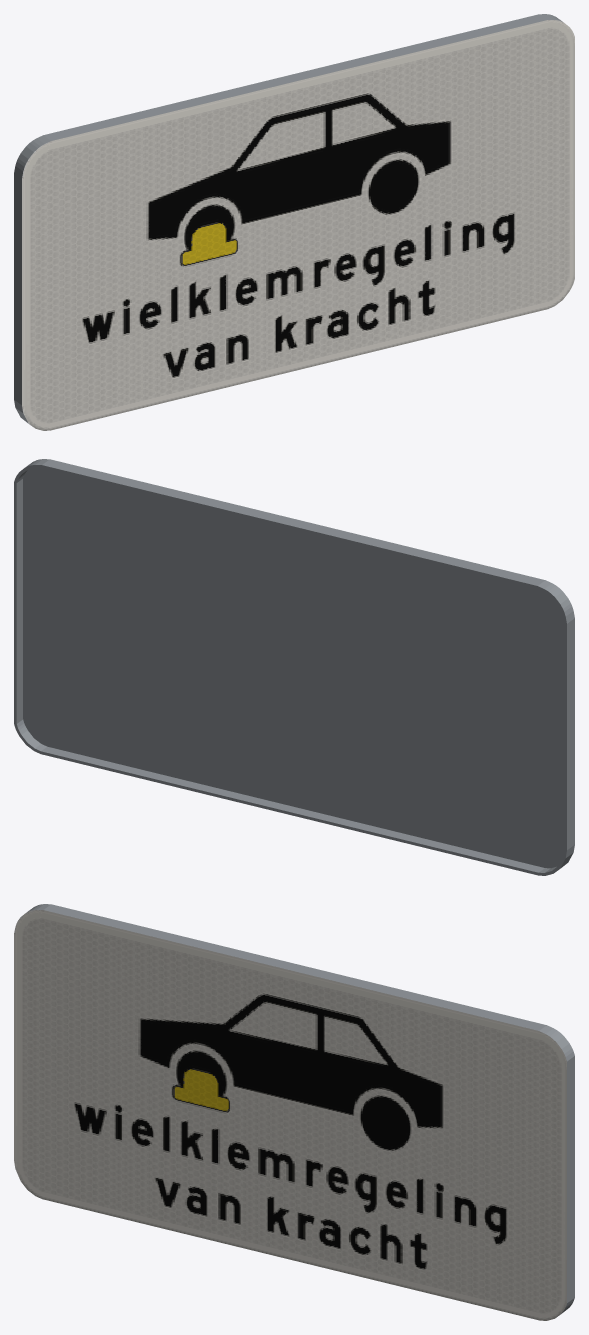
The picture shows the model from 3 angles, top to bottom: view 1: azimuth 30°, elevation 25°; view 2: azimuth 150°, elevation 25°; view 3: azimuth 330°, elevation 25°; orthographic projection.
Visible parts, largest first — view 1: cat_33a39877f6541c27; view 2: cat_33a39877f6541c27; view 3: cat_33a39877f6541c27.
Boxes of the visible parts, box(x1,y1,x2,y2) form: cat_33a39877f6541c27: box(14, 14, 574, 430); cat_33a39877f6541c27: box(14, 459, 574, 875); cat_33a39877f6541c27: box(14, 904, 574, 1320).
Bounding box in the file's own units: 0.6 × 0.015 × 0.3.
2 materials, 1 textured.
